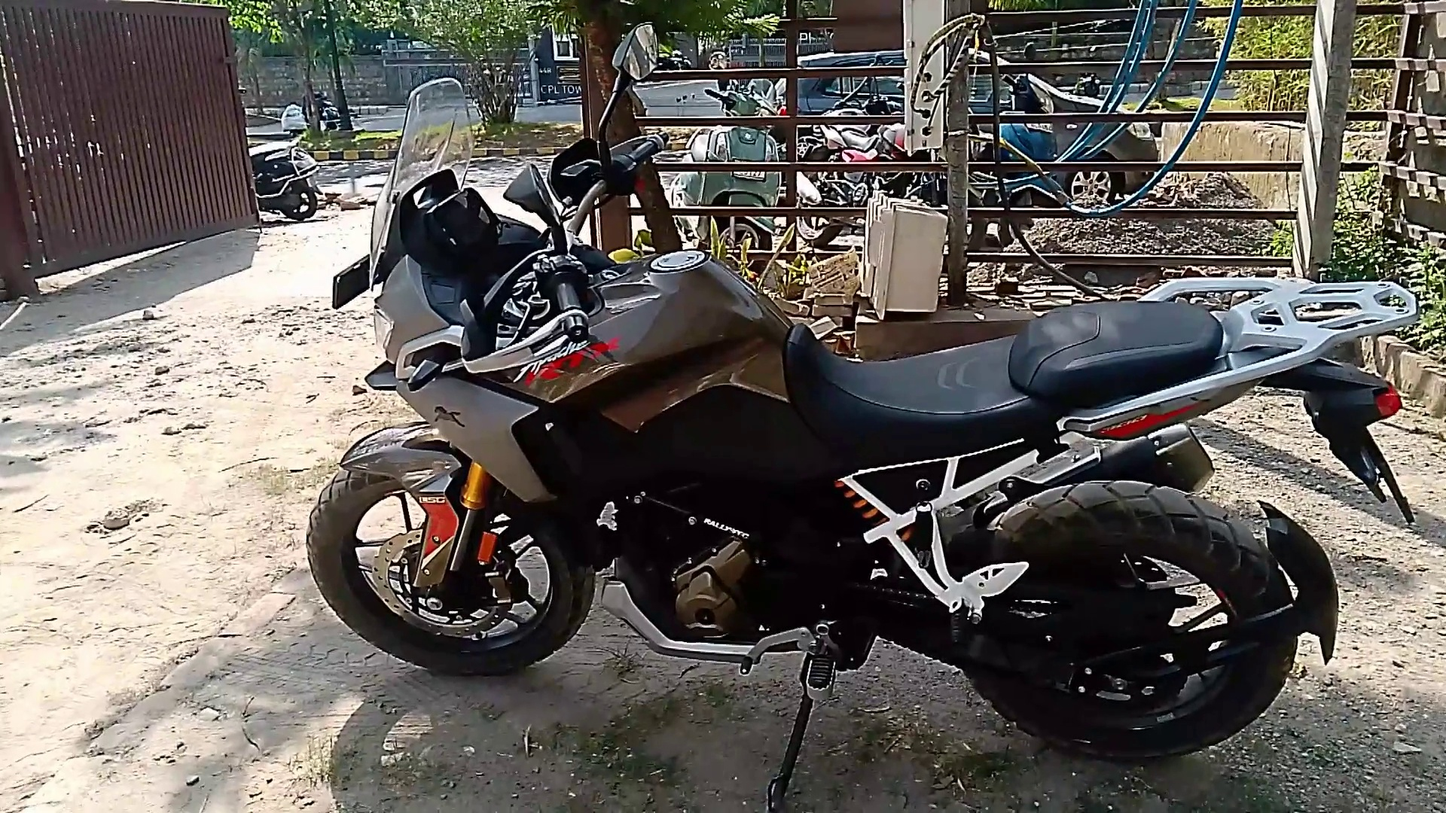engine: (650, 499, 785, 664)
